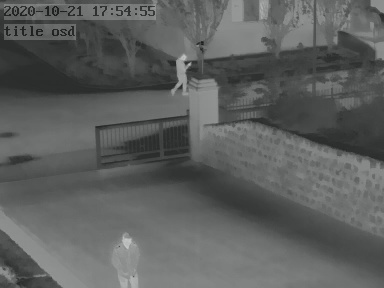person: (115, 228, 141, 288), (172, 53, 190, 95)
